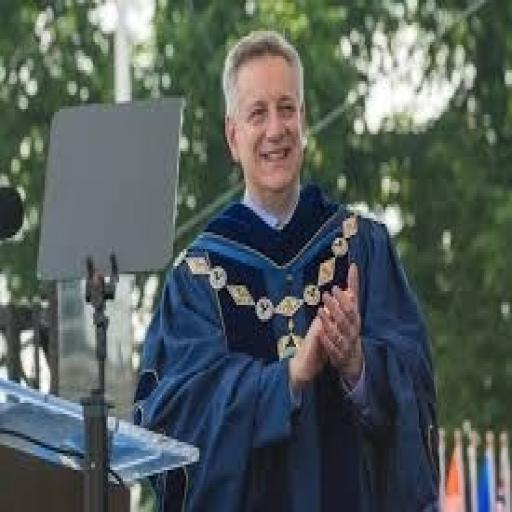clapping: (130, 28, 443, 509)
